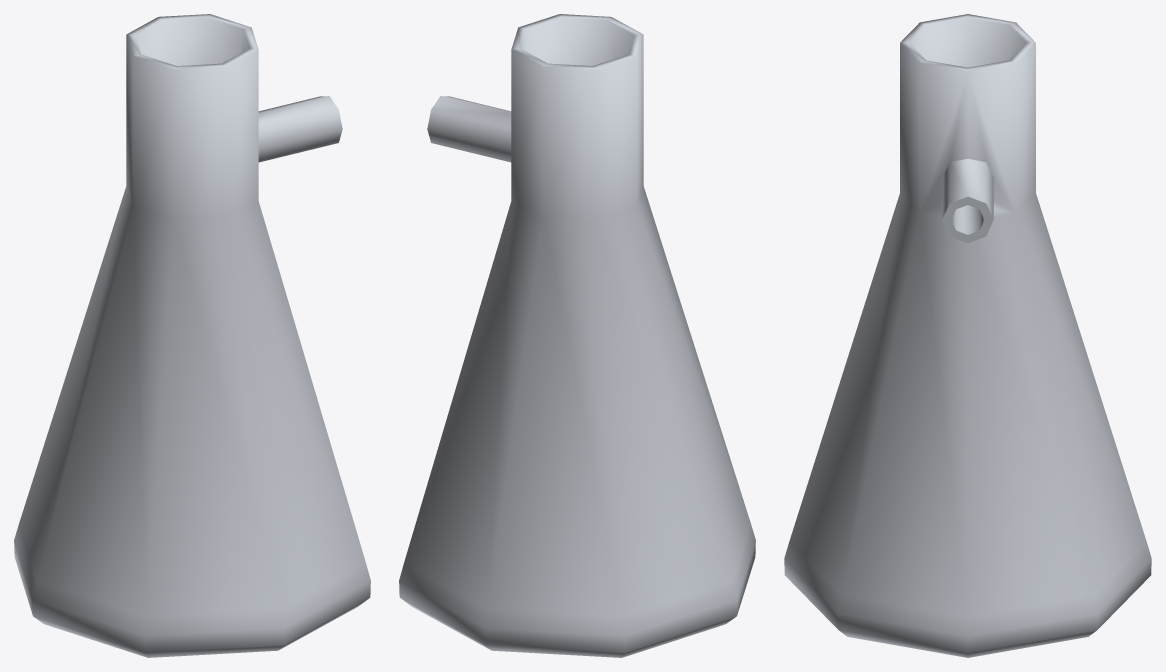
Rendered from bottle_glassware_filtering_flask_large.glb.
3 views of the same model, side by side, from view 1: azimuth 30°, elevation 25°; view 2: azimuth 150°, elevation 25°; view 3: azimuth 270°, elevation 25° (orthographic).
Parts seen in each view (by area): view 1: bottle_glassware_filtering_flask_large; view 2: bottle_glassware_filtering_flask_large; view 3: bottle_glassware_filtering_flask_large.
Part boxes in pixels (x1,y1,x2,y2): bottle_glassware_filtering_flask_large: (14,14,370,657); bottle_glassware_filtering_flask_large: (399,14,755,657); bottle_glassware_filtering_flask_large: (784,14,1151,657).
Bounding box in the file's own units: 0.3299 × 0.54 × 0.3299.
Materials: 1 (1 with a texture image).
